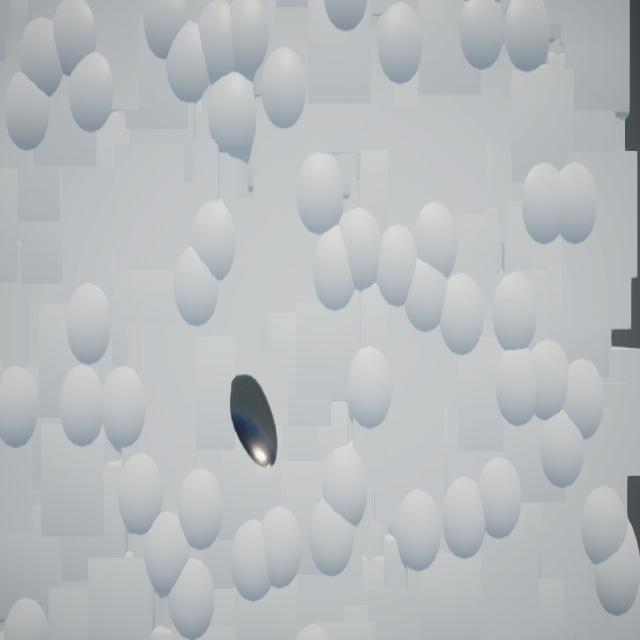top_spoon: (230, 376, 279, 469)
